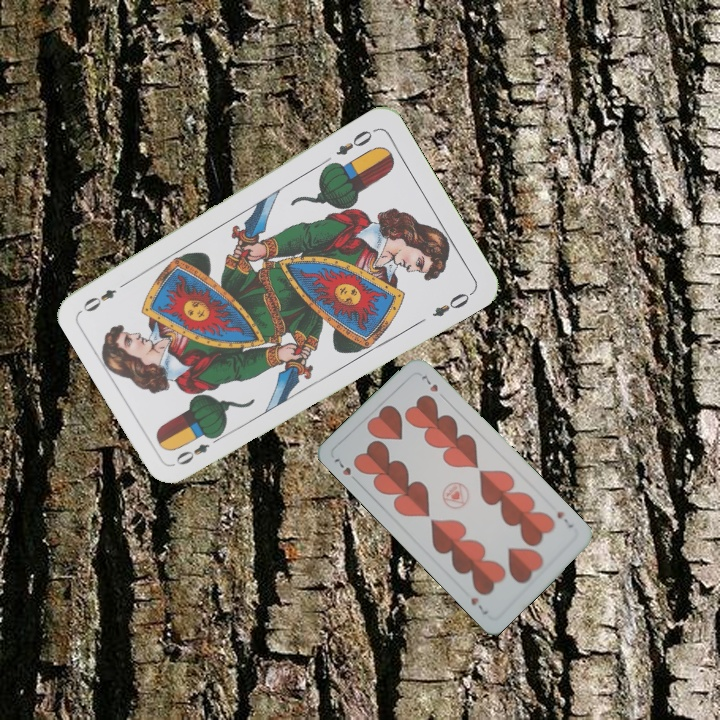EO: (171, 431, 225, 468), (332, 126, 375, 158)
H7: (330, 454, 361, 484), (553, 507, 576, 531)
